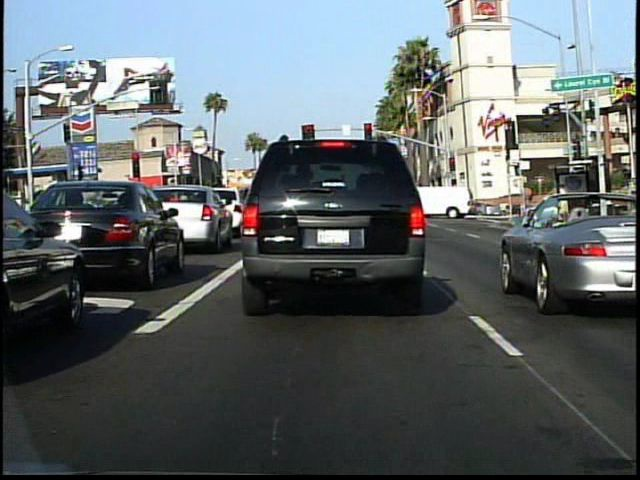person: (551, 179, 573, 231)
